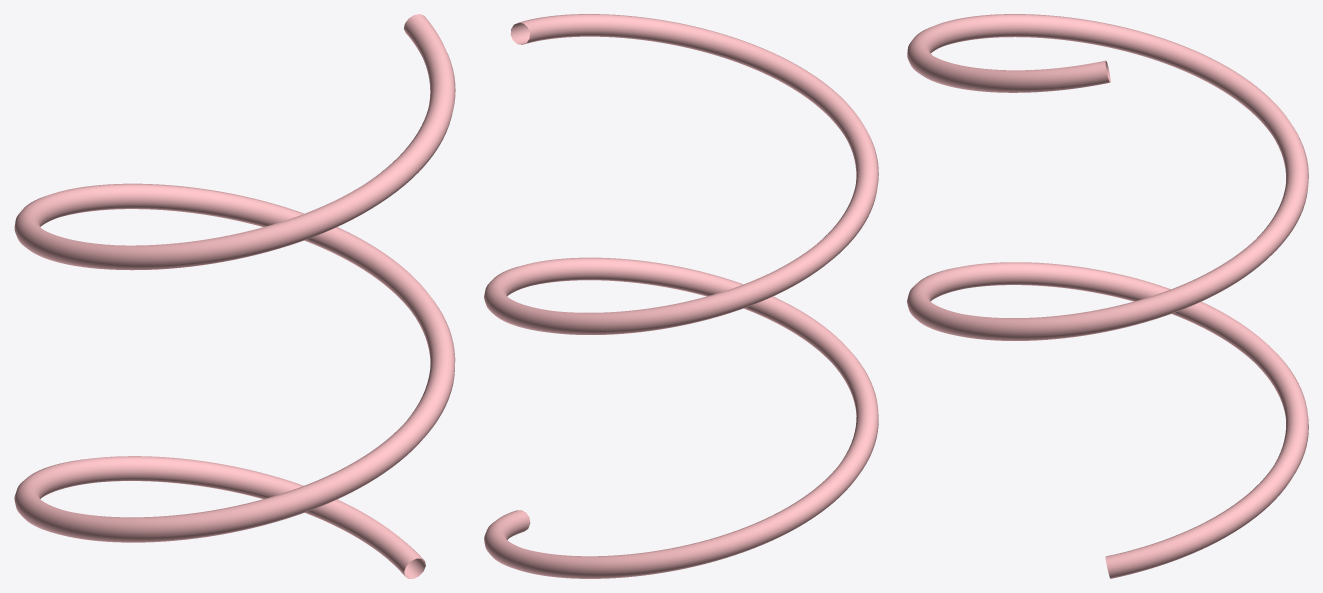
File: ch_line_helix.gltf
The picture shows the model from 3 angles, left to right: view 1: azimuth 30°, elevation 25°; view 2: azimuth 150°, elevation 25°; view 3: azimuth 270°, elevation 25°; orthographic projection. The views are drawn at different scales.
Visible parts, largest first — view 1: Helix; view 2: Helix; view 3: Helix.
Part boxes in pixels (x1,y1,x2,y2): Helix: [14, 14, 455, 578]; Helix: [484, 14, 878, 578]; Helix: [907, 14, 1308, 578].
Size of the model in its own units: 1.91 by 2.71 by 1.91.
